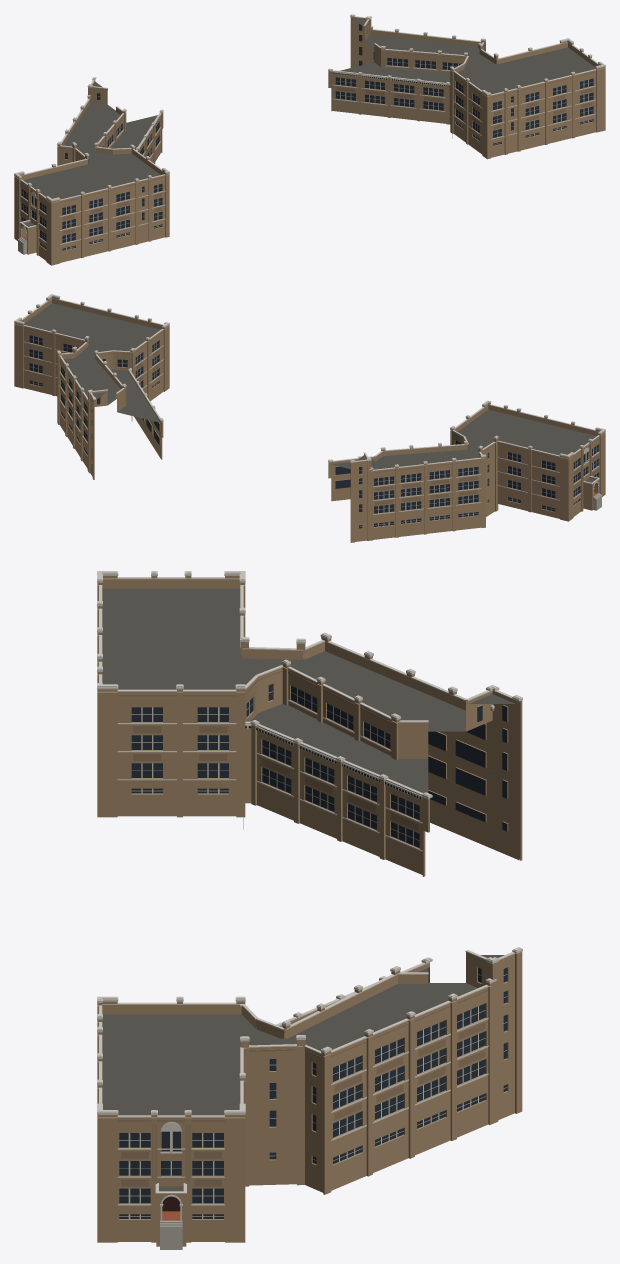
Rendered from central-high-school-wings.glb.
The picture shows the model from 3 angles, top to bottom: view 1: azimuth 30°, elevation 25°; view 2: azimuth 150°, elevation 25°; view 3: azimuth 270°, elevation 25°; orthographic projection. The views are drawn at different scales.
Parts seen in each view (by area): view 1: central_brick, central_roof, central_glass, central_stone, central_sash, central_brick2; view 2: central_brick, central_roof, central_glass, central_stone, central_sash, central_brick2; view 3: central_brick, central_roof, central_glass, central_stone, central_brick2, central_sash.
Boxes of the visible parts, left/top/right/bottom form: central_brick: left=14, top=17, right=605, bottom=265; central_roof: left=23, top=19, right=595, bottom=226; central_glass: left=21, top=24, right=593, bottom=250; central_stone: left=14, top=14, right=605, bottom=244; central_sash: left=22, top=58, right=592, bottom=251; central_brick2: left=20, top=44, right=596, bottom=234; central_brick: left=14, top=297, right=605, bottom=542; central_roof: left=24, top=303, right=596, bottom=482; central_glass: left=29, top=335, right=598, bottom=528; central_stone: left=14, top=294, right=605, bottom=514; central_sash: left=29, top=336, right=598, bottom=528; central_brick2: left=23, top=327, right=599, bottom=505; central_brick: left=97, top=576, right=522, bottom=1246; central_roof: left=102, top=588, right=518, bottom=1191; central_glass: left=119, top=684, right=507, bottom=1218; central_stone: left=97, top=571, right=522, bottom=1221; central_brick2: left=117, top=652, right=488, bottom=1186; central_sash: left=119, top=688, right=507, bottom=1219.
Size of the model in its own units: 178 by 24 by 56.79.
